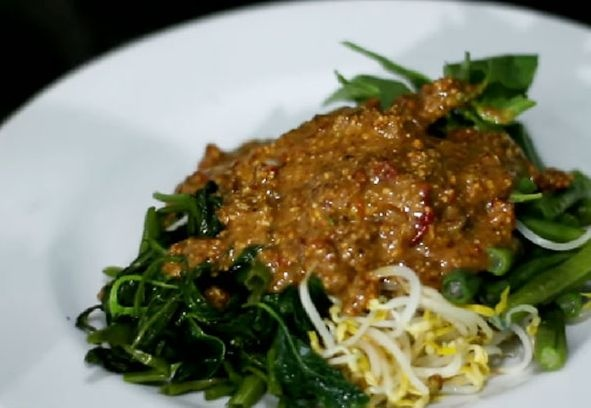pecel: (119, 59, 577, 395)
